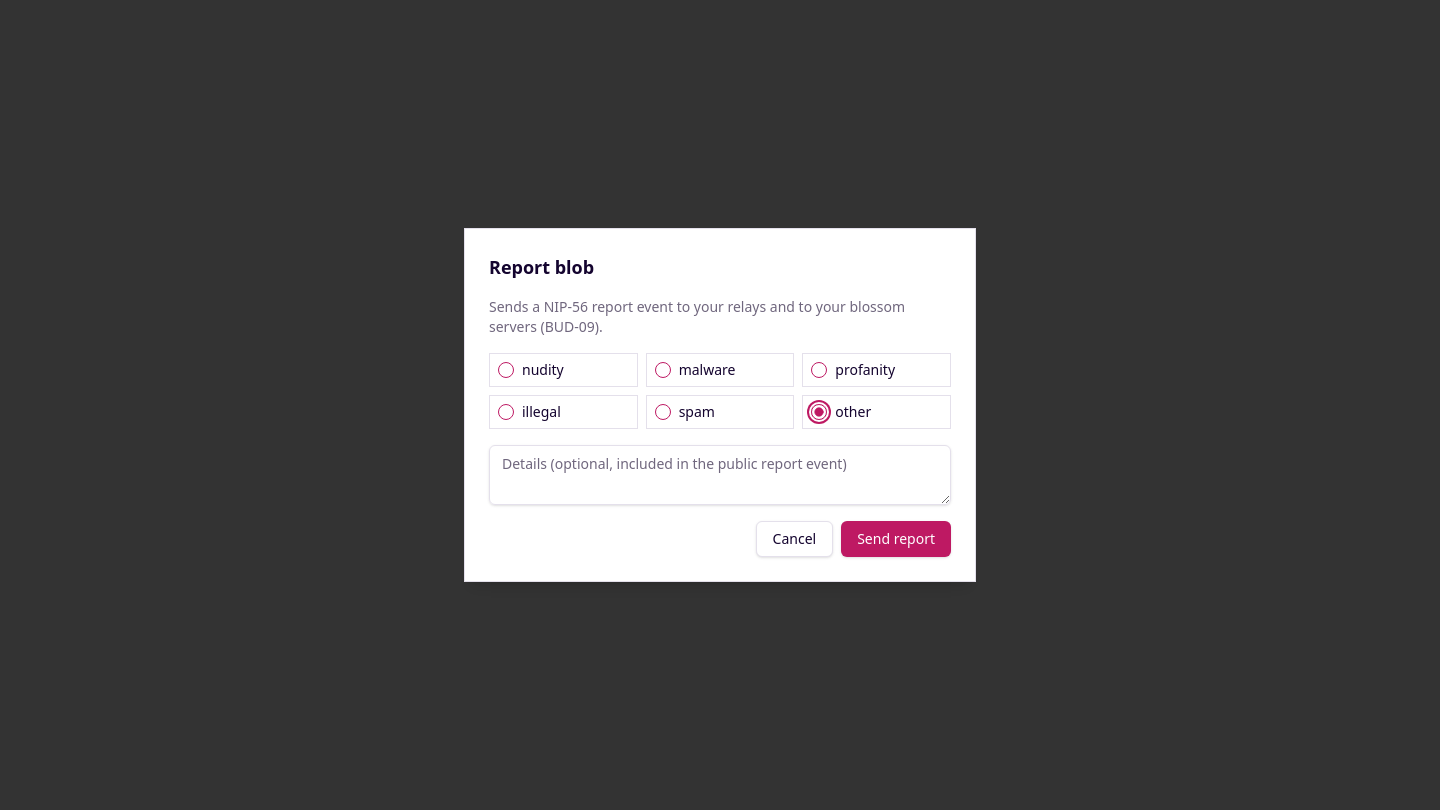
ReportDialog › reports complete failure across every destination without closing the dialog
Step 1. Click the button "Send report" → (896, 539), box [841,521,951,557]
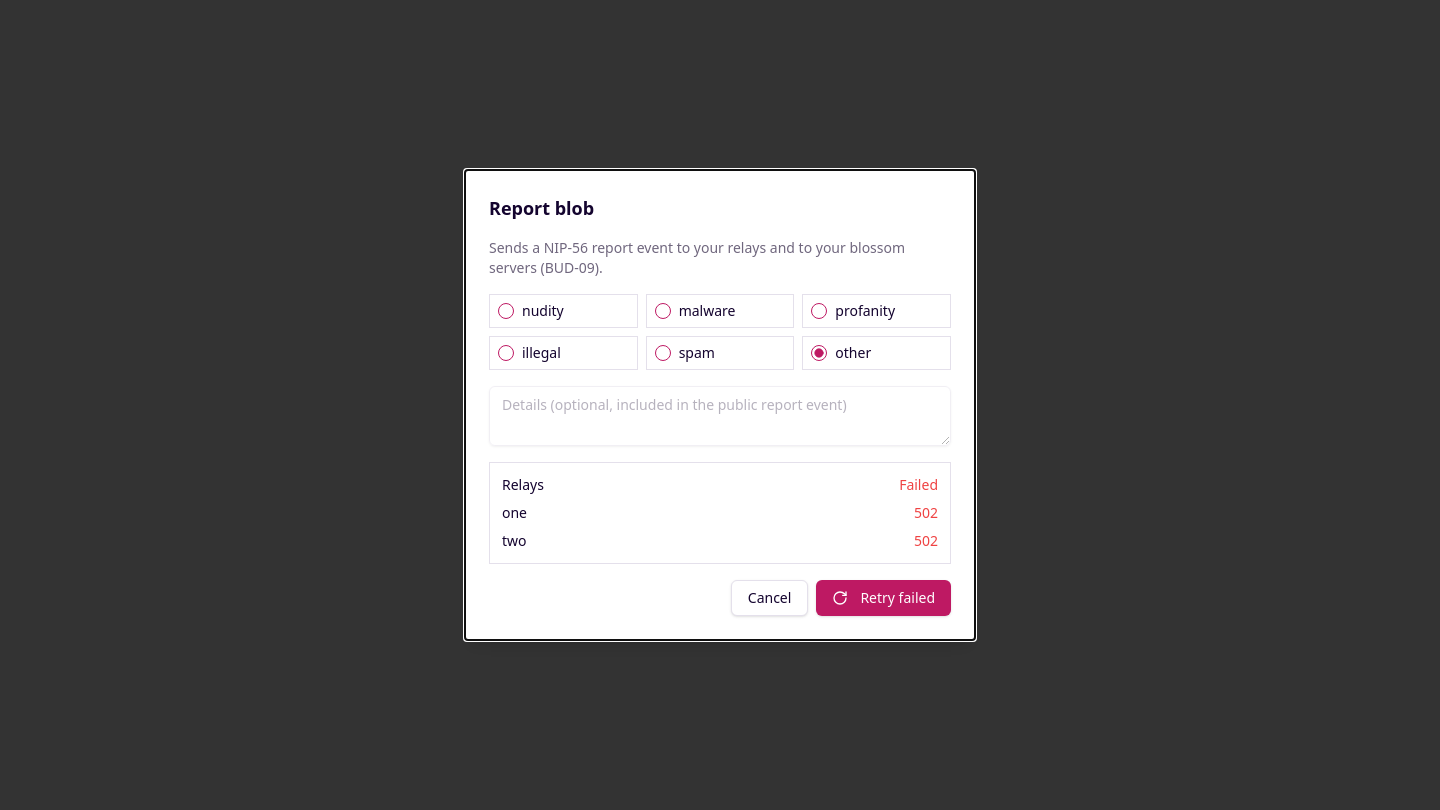
Expected: the button "Retry failed" is shown, [816,580,951,616]
Expected: the text "Failed" is shown, [899,475,938,495]
